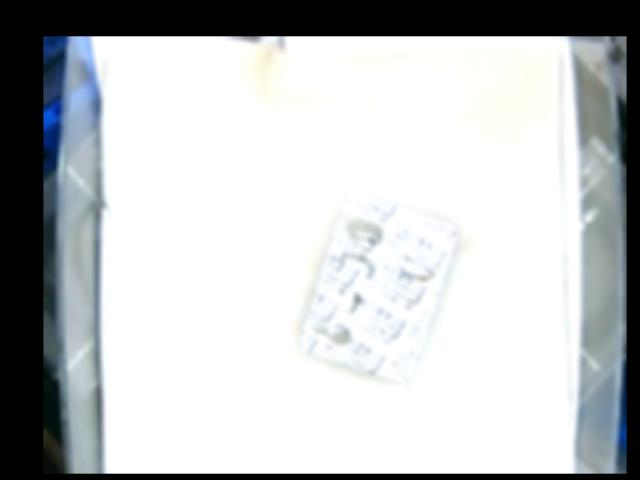Medicine: (302, 193, 460, 373)
